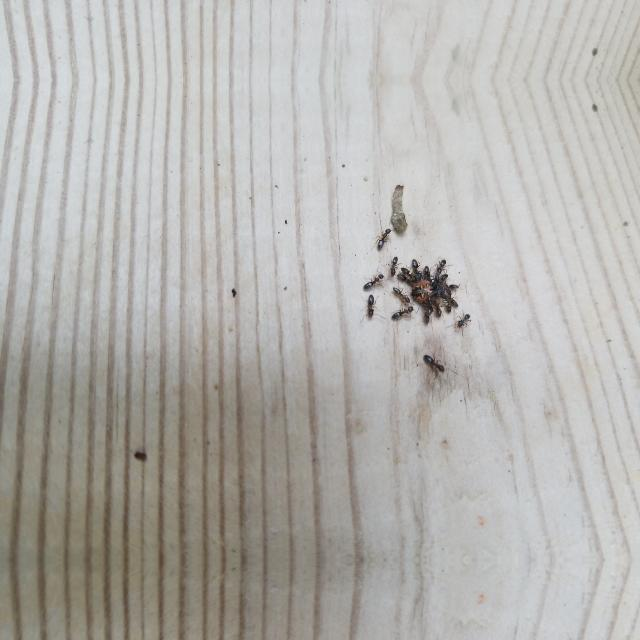Tapinoma: (419, 351, 449, 375), (372, 226, 394, 252), (360, 272, 386, 290), (362, 292, 378, 320), (388, 305, 414, 321), (384, 254, 402, 276), (398, 270, 422, 286), (453, 311, 473, 329), (442, 289, 461, 307), (408, 256, 422, 280), (434, 255, 448, 278), (389, 286, 409, 302), (441, 294, 453, 314), (424, 295, 434, 317), (422, 261, 431, 279), (436, 296, 442, 318), (438, 282, 460, 288)
